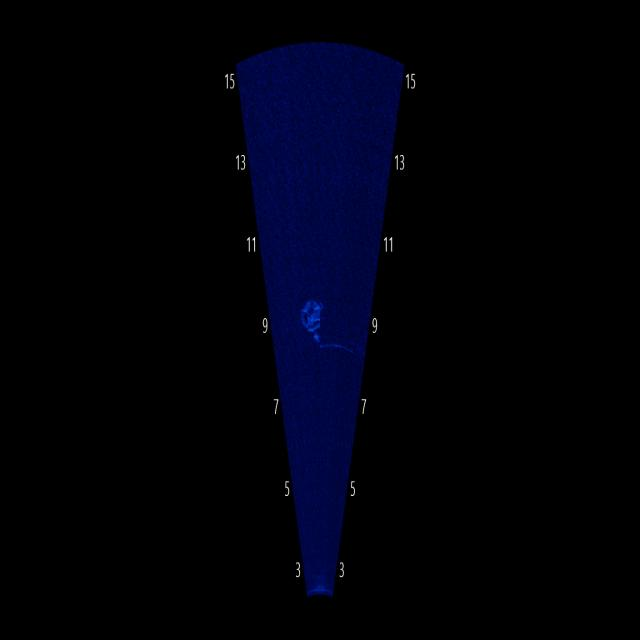circle: (294, 269, 340, 375)
